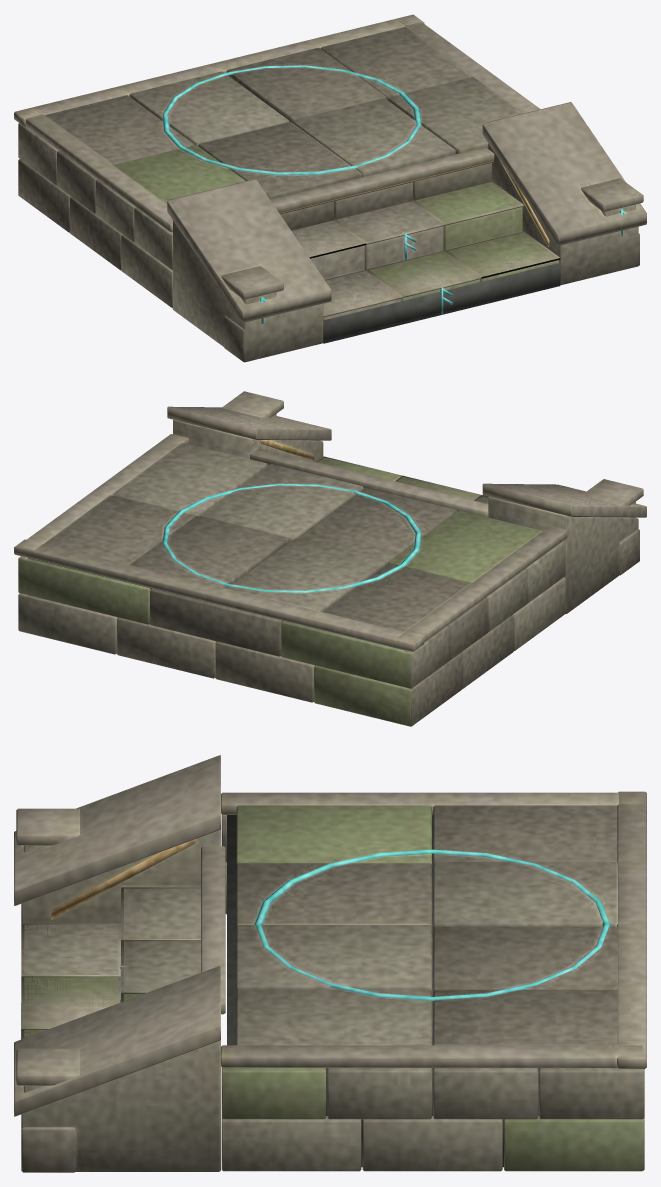
Rendered from stone_dais.glb.
The picture shows the model from 3 angles, top to bottom: view 1: azimuth 30°, elevation 25°; view 2: azimuth 150°, elevation 25°; view 3: azimuth 270°, elevation 25°; orthographic projection. The views are drawn at different scales.
Parts seen in each view (by area): view 1: stone_dais; view 2: stone_dais; view 3: stone_dais.
Boxes of the visible parts, box(x1,y1,x2,y2) form: stone_dais: box(14, 14, 646, 362); stone_dais: box(14, 391, 646, 726); stone_dais: box(14, 755, 646, 1172).
Bounding box in the file's own units: 2.57 × 0.6692 × 2.54.
1 material, 1 textured.
